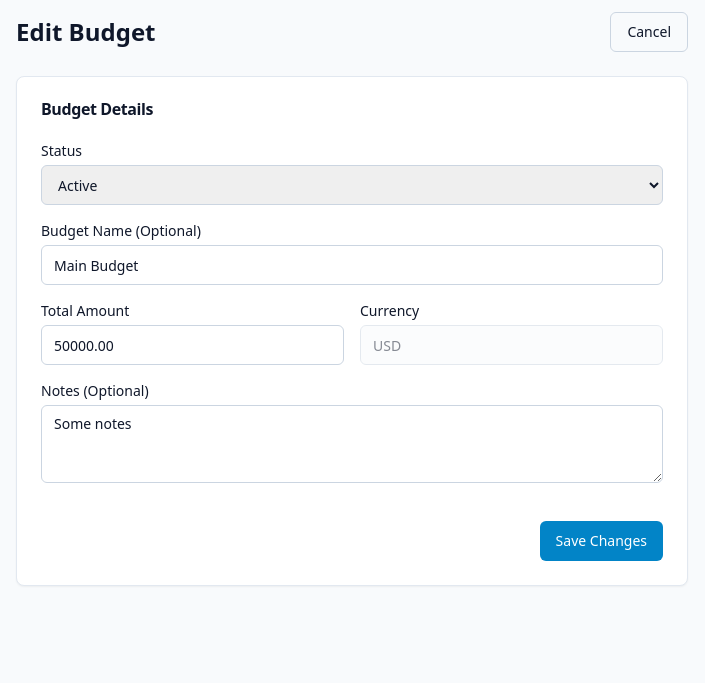
Scenario: Budgets Module › Edit Page › handles 409 concurrency conflict appropriately
The image size is (705, 683).
Replace the text in the number field labelled "Total Amount" with "60000.00" at (192, 345), box [41,325,344,365]
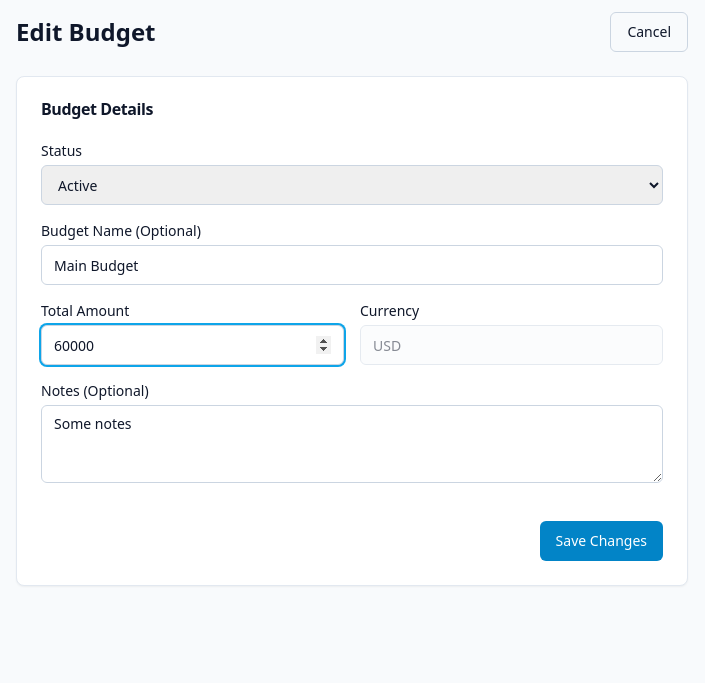
Submit the form named "save changes", box [41,141,663,561]
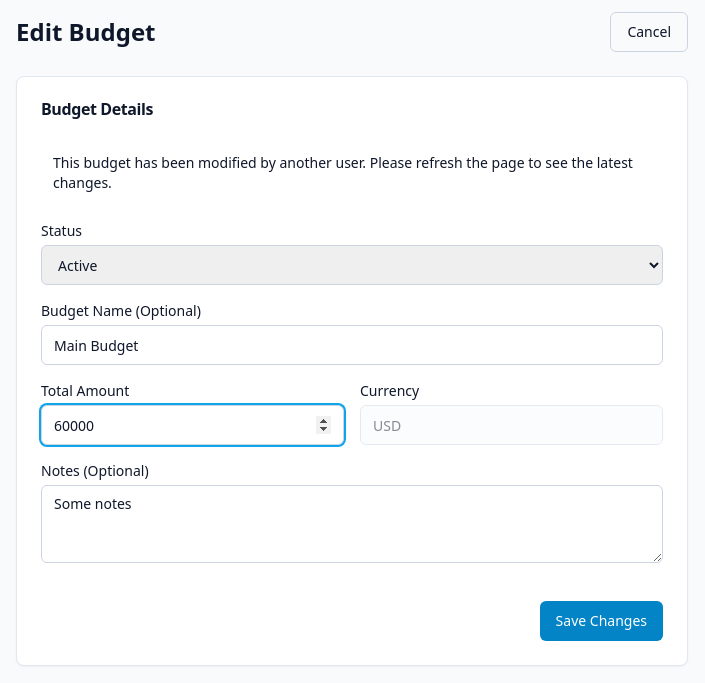
Check: the text "modified by another user" is shown, box [53,153,633,192]
